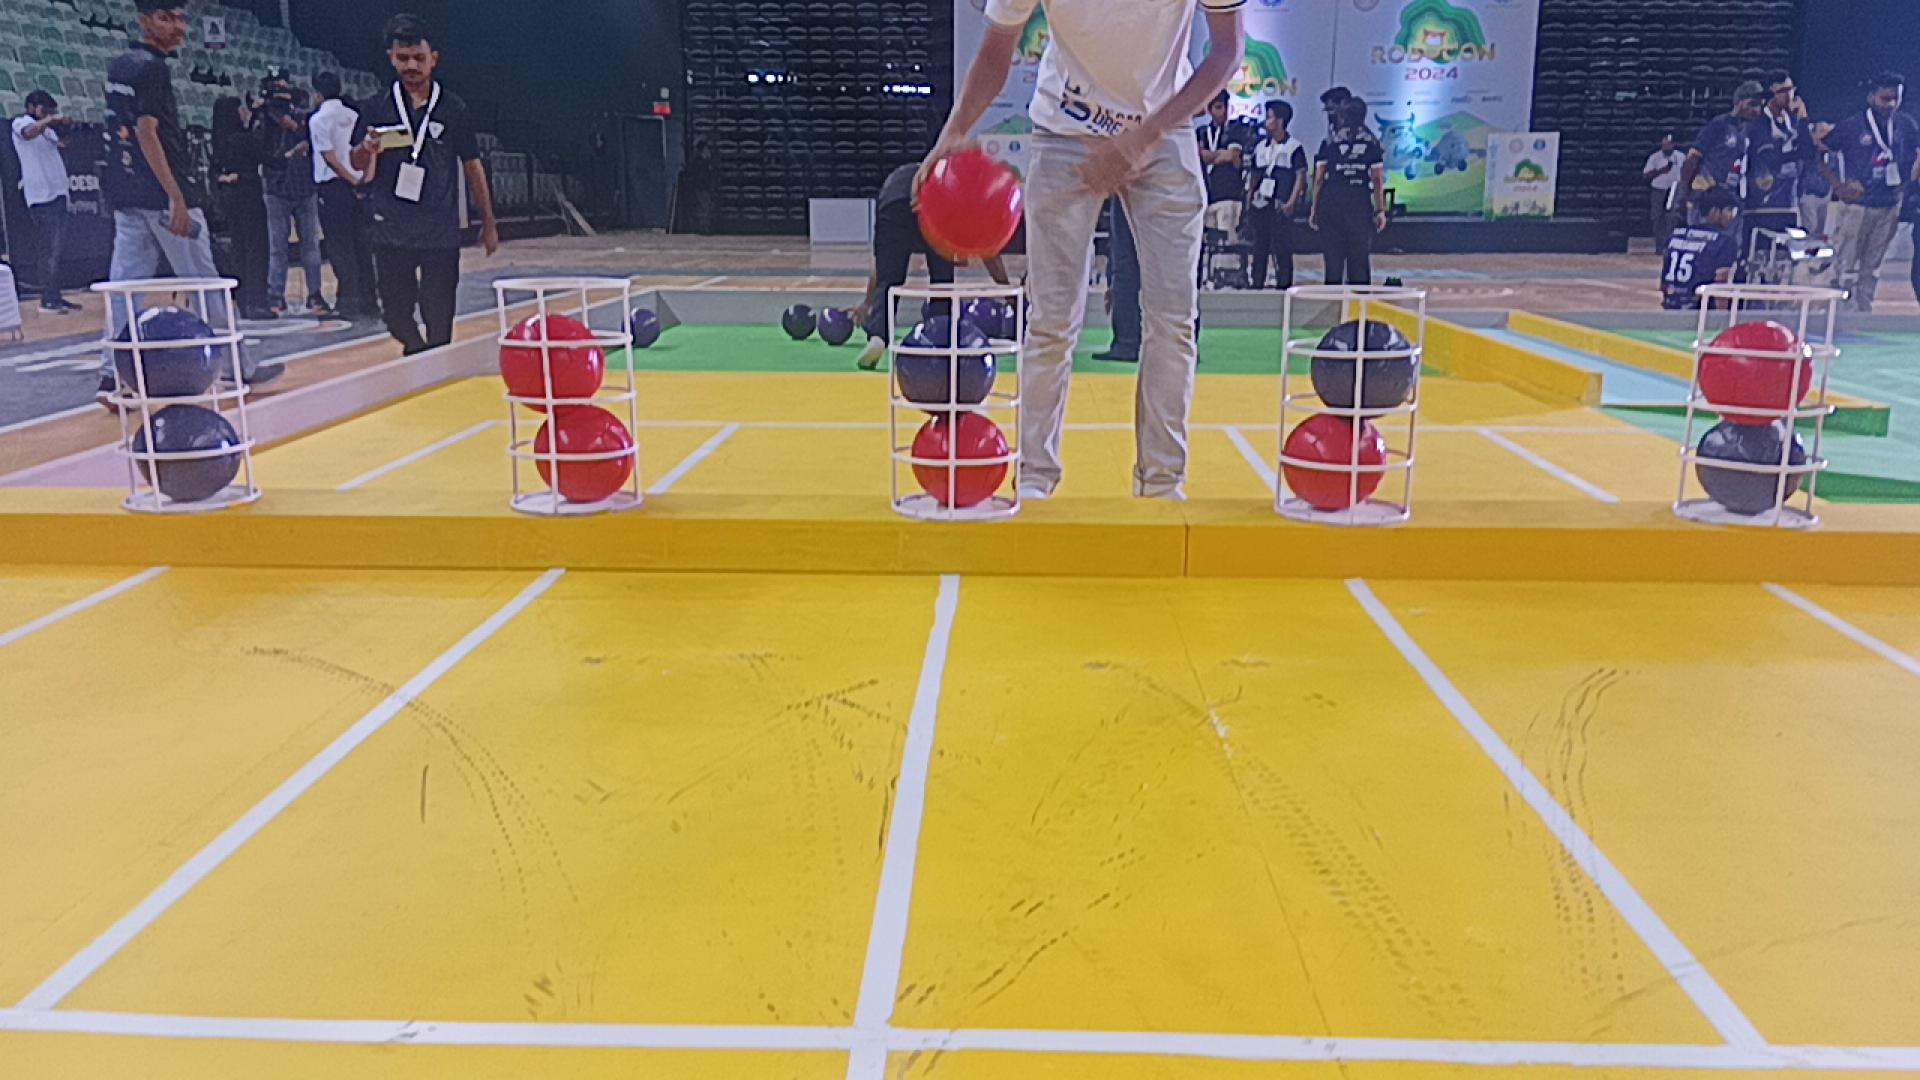dhoka: (1695, 419, 1808, 517), (132, 405, 240, 502), (112, 307, 225, 397), (1308, 319, 1414, 409), (893, 319, 997, 405)
laale: (1695, 319, 1812, 427), (533, 405, 634, 502), (1283, 413, 1387, 508), (911, 413, 1009, 506), (498, 315, 604, 397)
